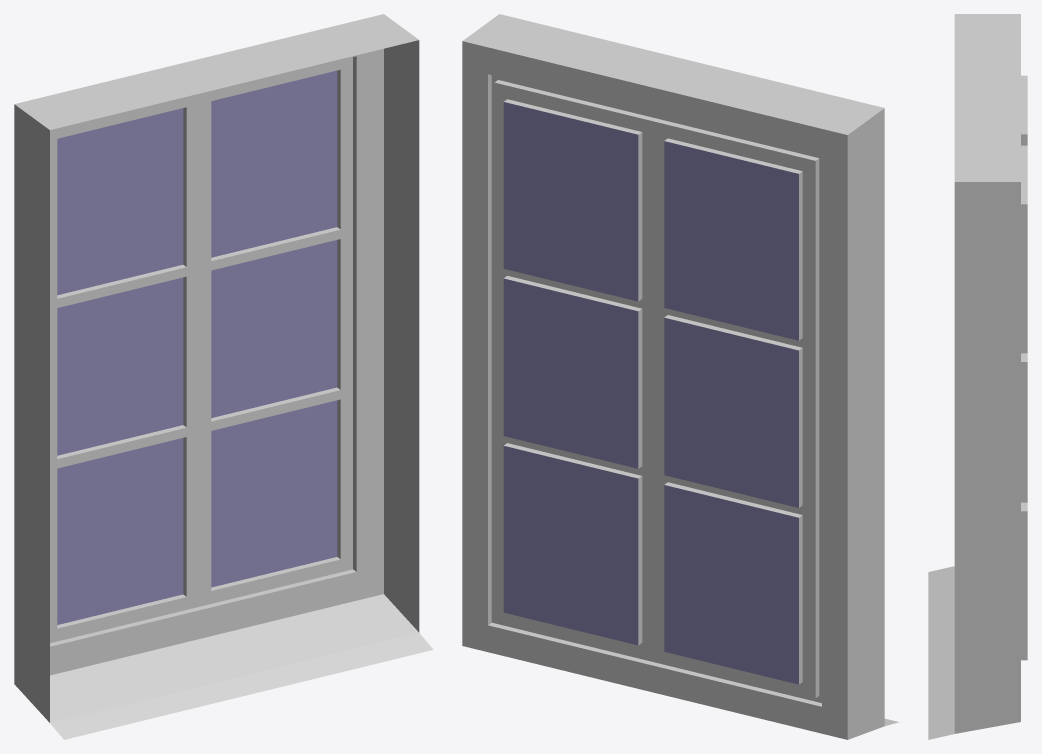
The model's file is window1.glb.
3 renders of one model, left to right at view 1: azimuth 30°, elevation 25°; view 2: azimuth 150°, elevation 25°; view 3: azimuth 270°, elevation 25°, orthographic. The views are drawn at different scales.
Parts seen in each view (by area): view 1: Plane; view 2: Plane; view 3: Plane.
Part boxes in pixels (x1,y1,x2,y2): Plane: (14, 14, 433, 739); Plane: (462, 14, 899, 739); Plane: (928, 14, 1027, 739).
Size of the model in its own units: 0.6 by 0.93 by 0.15.
